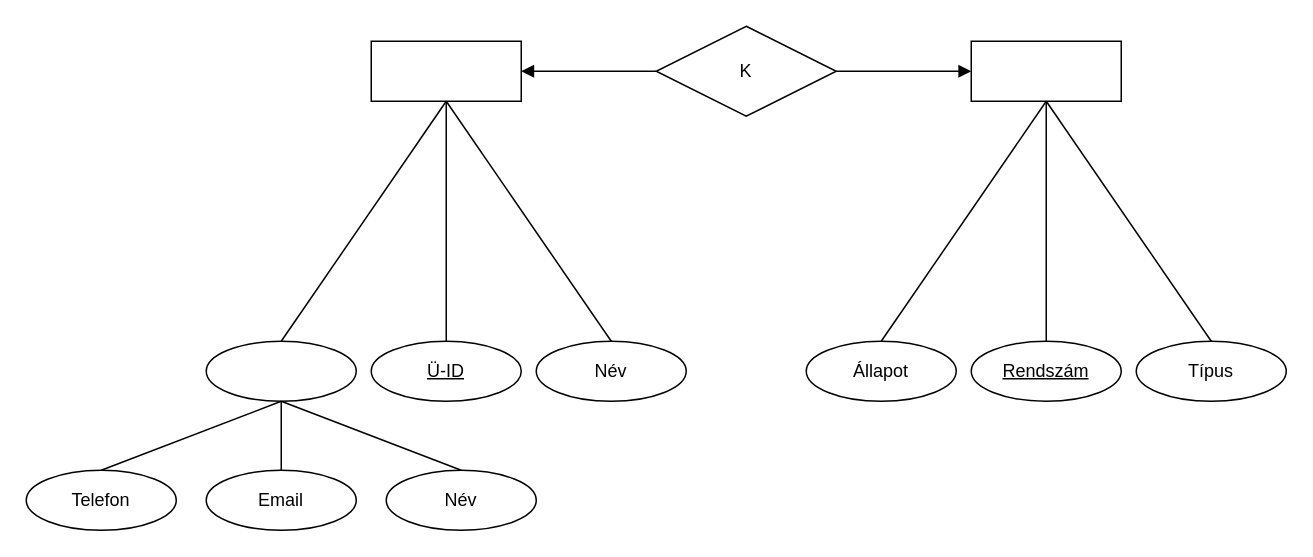
This 1313x557 diagram has some shape labels left out. The centre of each missing label's shape, as x and y in pixels:
"Elérhetőség" belongs at (280,370).
"Jámű" belongs at (1045,70).
"Ügyfél" belongs at (445,70).
